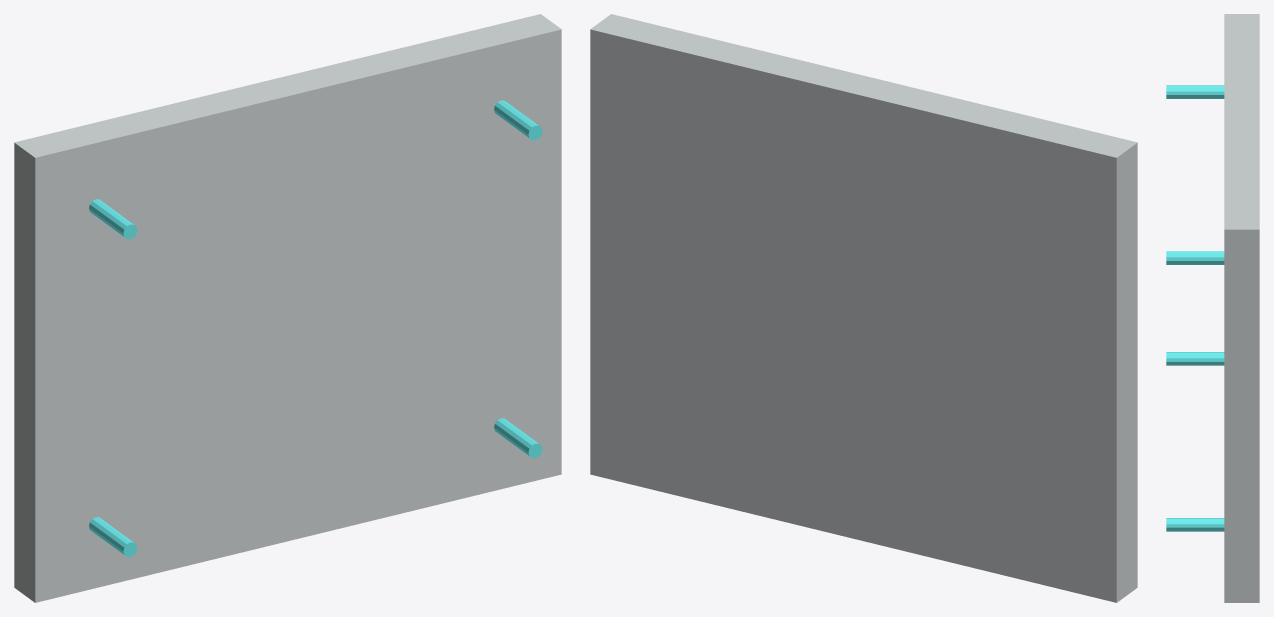
Rendered from foundation-slab.glb.
3 views of the same model, side by side, from view 1: azimuth 30°, elevation 25°; view 2: azimuth 150°, elevation 25°; view 3: azimuth 270°, elevation 25° (orthographic). The views are drawn at different scales.
Parts seen in each view (by area): view 1: world; view 2: world; view 3: world.
Boxes of the visible parts, <box> form: world: <box>14,14,561,602</box>; world: <box>590,14,1137,602</box>; world: <box>1166,14,1259,602</box>.
Bounding box in the file's own units: 2.6 × 2.1 × 0.475.
